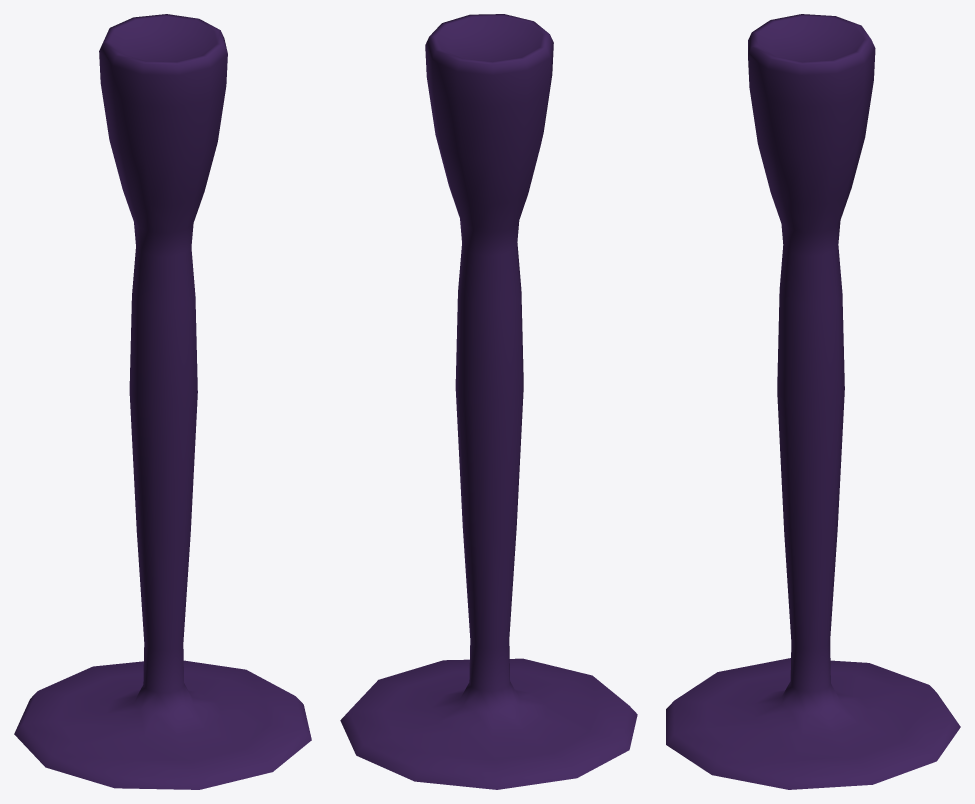
Rendered from apurpleOrnament.fbx.
3 renders of one model, left to right at view 1: azimuth 30°, elevation 25°; view 2: azimuth 150°, elevation 25°; view 3: azimuth 270°, elevation 25°, orthographic.
Parts seen in each view (by area): view 1: purpleOrnament; view 2: purpleOrnament; view 3: purpleOrnament.
Boxes of the visible parts, x1,y1,x2,y2 form: purpleOrnament: (14, 14, 311, 789); purpleOrnament: (340, 14, 637, 789); purpleOrnament: (666, 14, 960, 789).
Bounding box in the file's own units: 0.2884 × 0.7348 × 0.2854.
Materials: 1 (1 with a texture image).
